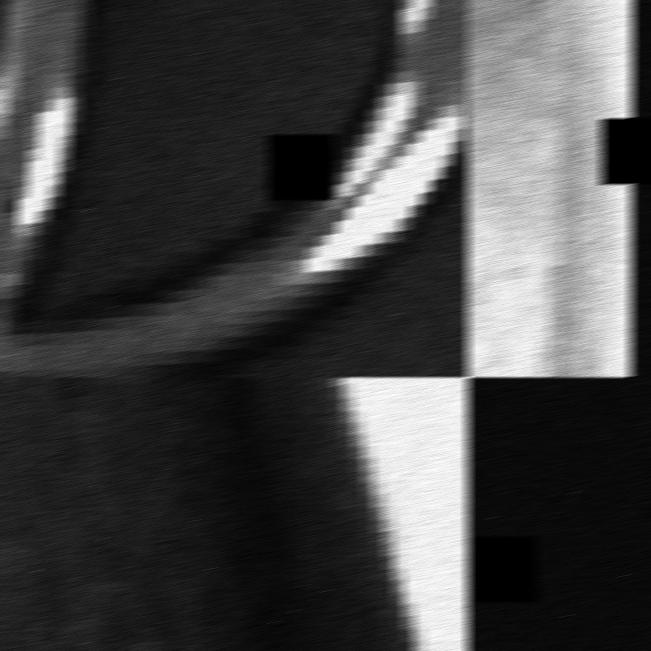AirbagV2: (0, 0, 470, 377), (0, 377, 470, 651), (466, 0, 645, 377)
